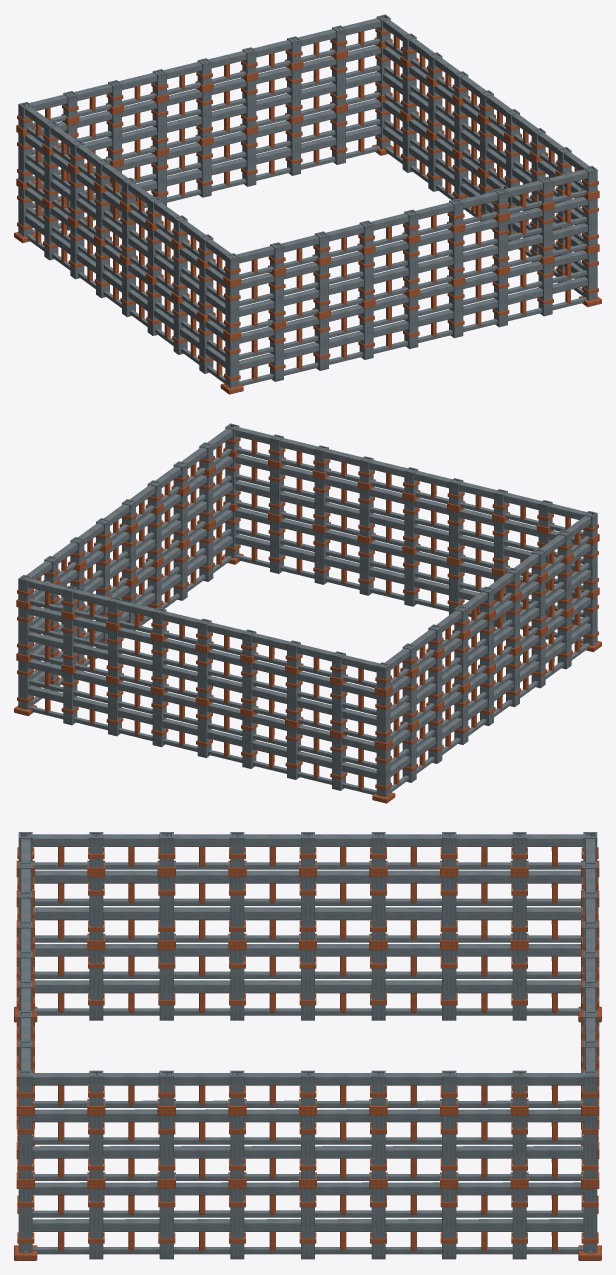
3 views of the same model, one above another, from view 1: azimuth 30°, elevation 25°; view 2: azimuth 150°, elevation 25°; view 3: azimuth 270°, elevation 25° (orthographic). The views are drawn at different scales.
Parts seen in each view (by area): view 1: Tier 0 side 0 post 0, Tier 1 side 0 post 0, Tier 0 side 0 post 5, Tier 0 side 2 post 3, Tier 0 side 0 post 4, Tier 0 side 2 post 4, Tier 0 side 2 post 2, Tier 0 side 0 post 3, Tier 0 side 0 post 7, Tier 0 side 0 post 2, Tier 0 side 0 post 6, Tier 0 side 0 post 1 (+11 smaller); view 2: Tier 0 side 3 post 0, Tier 1 side 3 post 0, Tier 0 side 0 post 6, Tier 0 side 2 post 3, Tier 0 side 0 post 5, Tier 0 side 2 post 4, Tier 0 side 0 post 4, Tier 0 side 2 post 1, Tier 0 side 2 post 5, Tier 0 side 2 post 2, Tier 0 side 2 post 6, Tier 0 side 2 post 7 (+11 smaller); view 3: Tier 0 side 3 post 1, Tier 0 side 3 post 2, Tier 0 side 3 post 3, Tier 0 side 3 post 5, Tier 0 side 3 post 6, Tier 0 side 3 post 7, Tier 0 side 1 post 1, Tier 0 side 1 post 2, Tier 0 side 1 post 3, Tier 0 side 1 post 5, Tier 0 side 1 post 6, Tier 0 side 1 post 7 (+100 smaller).
Part boxes in pixels (x1,y1,x2,y2): Tier 0 side 0 post 0: (225,338,239,388); Tier 1 side 0 post 0: (225,285,239,334); Tier 0 side 0 post 5: (449,285,463,338); Tier 0 side 2 post 3: (242,133,256,186); Tier 0 side 0 post 4: (404,296,418,348); Tier 0 side 2 post 4: (197,144,211,197); Tier 0 side 2 post 2: (287,122,301,175); Tier 0 side 0 post 3: (359,306,373,359); Tier 0 side 0 post 7: (538,263,552,316); Tier 0 side 0 post 2: (314,317,328,370); Tier 0 side 0 post 6: (494,274,507,327); Tier 0 side 0 post 1: (270,328,283,381); Tier 0 side 3 post 0: (376,747,390,797); Tier 1 side 3 post 0: (376,694,390,743); Tier 0 side 0 post 6: (314,531,328,584); Tier 0 side 2 post 3: (152,694,166,747); Tier 0 side 0 post 5: (359,542,373,595); Tier 0 side 2 post 4: (197,705,211,757); Tier 0 side 0 post 4: (404,553,418,606); Tier 0 side 2 post 1: (63,672,77,725); Tier 0 side 2 post 5: (242,715,256,768); Tier 0 side 2 post 2: (108,683,121,736); Tier 0 side 2 post 6: (287,726,300,779); Tier 0 side 2 post 7: (332,737,345,790); Tier 0 side 3 post 1: (512,950,526,1020); Tier 0 side 3 post 2: (442,950,456,1020); Tier 0 side 3 post 3: (371,950,385,1020); Tier 0 side 3 post 5: (230,950,244,1020); Tier 0 side 3 post 6: (159,950,173,1020); Tier 0 side 3 post 7: (89,950,103,1020); Tier 0 side 1 post 1: (89,1189,103,1259); Tier 0 side 1 post 2: (159,1189,173,1259); Tier 0 side 1 post 3: (230,1189,244,1259); Tier 0 side 1 post 5: (371,1189,385,1259); Tier 0 side 1 post 6: (442,1189,456,1259); Tier 0 side 1 post 7: (512,1189,526,1259).
Bounding box in the file's own units: 3.75 × 1.29 × 3.75.
Materials: 2 (2 with a texture image).
